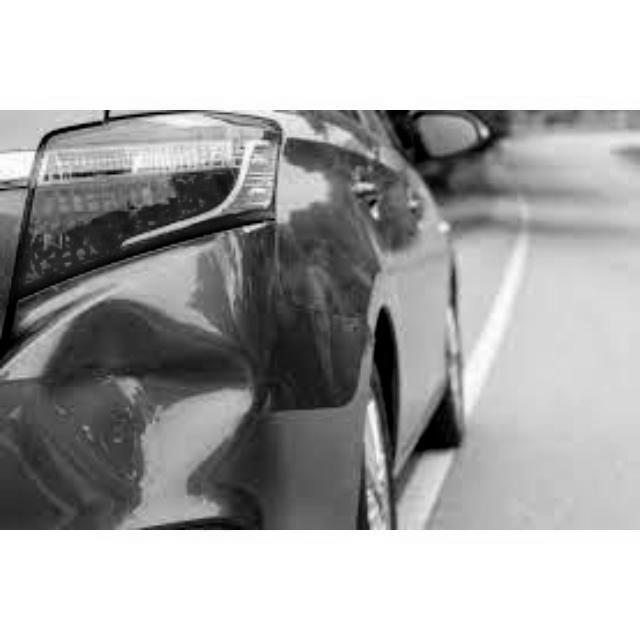rear-bumper-dent: (1, 249, 340, 526)
